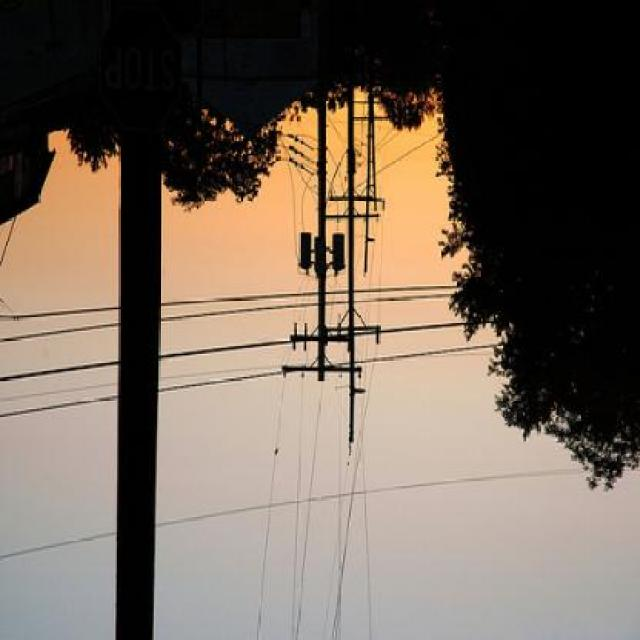pole: (341, 89, 368, 445), (306, 106, 331, 379)
